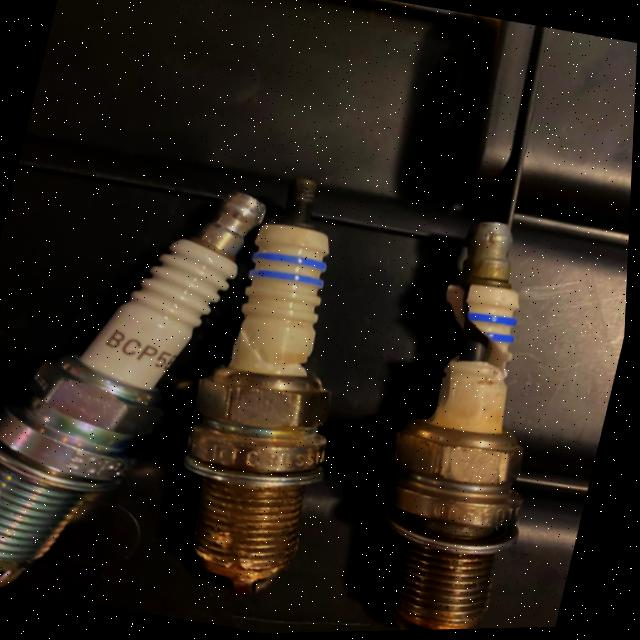damaged_spark-plug: (332, 210, 592, 634)
spark-plug: (0, 176, 284, 591), (182, 160, 343, 598)
